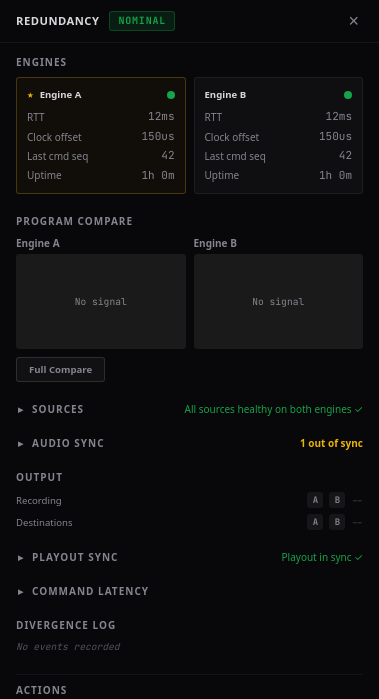
RedundancyPanel › renders audio comparison when provided
The width and height of the screenshot is (379, 699).
Click the button with class "section-toggle" showing "▸ AUDIO SYNC 1 out of sync". click: (68, 443)
box: x1=16 y1=436 x2=363 y2=450
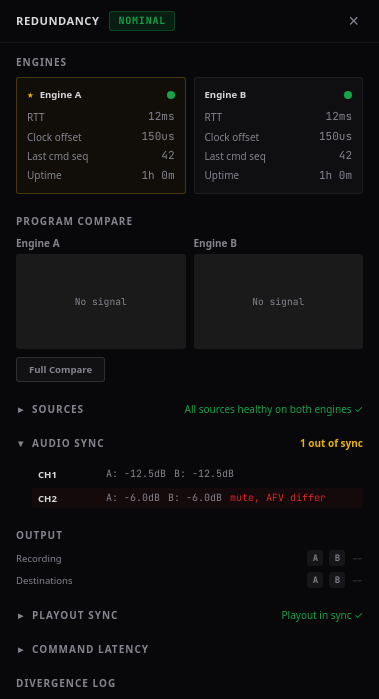
Check: the text "CH1" is shown, box x1=38 y1=468 x2=57 y2=481
Check: the text "CH2" is shown, box x1=38 y1=492 x2=57 y2=505
Check: the text "-12.5dB" is shown, box x1=106 y1=467 x2=166 y2=480
